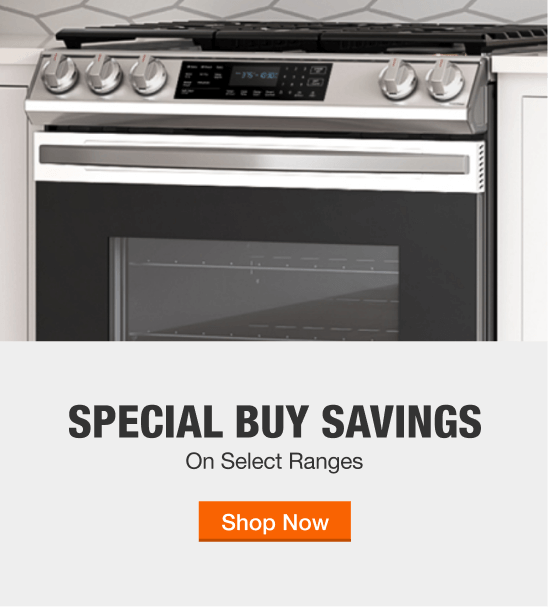stove: (16, 13, 510, 341)
